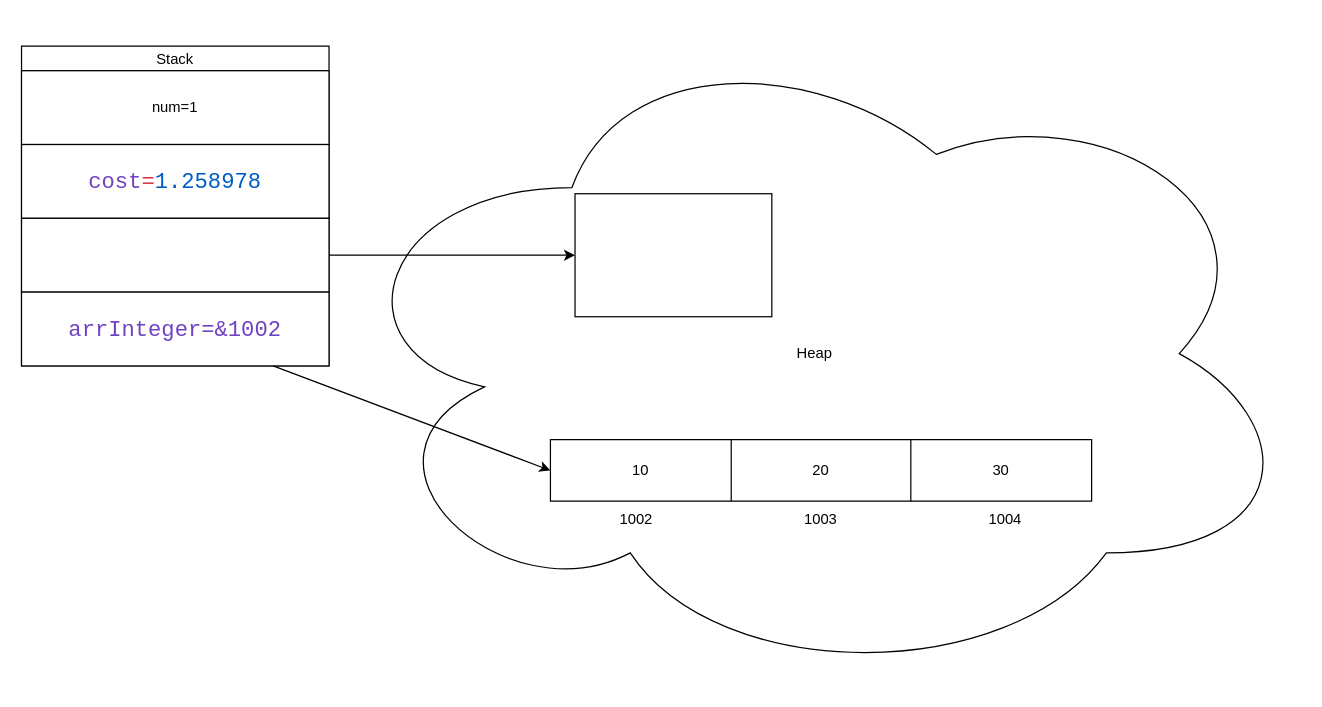
Some shapes in this 1322 by 707 pixel diagram are drawn without their labels. The shapes that lost their labels are listed below. From the top down, each one's box as (x1, y1, x2, y2) in pixels, then its label:
(20, 217, 329, 292): bike=&10001
(574, 192, 772, 317): Bike1 Speed=120 WheelCount=2
